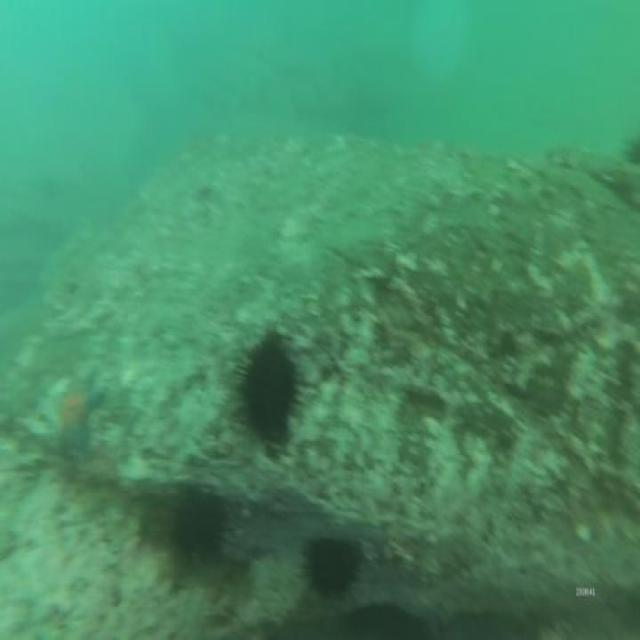echinus: (238, 329, 302, 460), (172, 477, 230, 569), (298, 526, 364, 605)
starfish: (51, 370, 105, 455)
